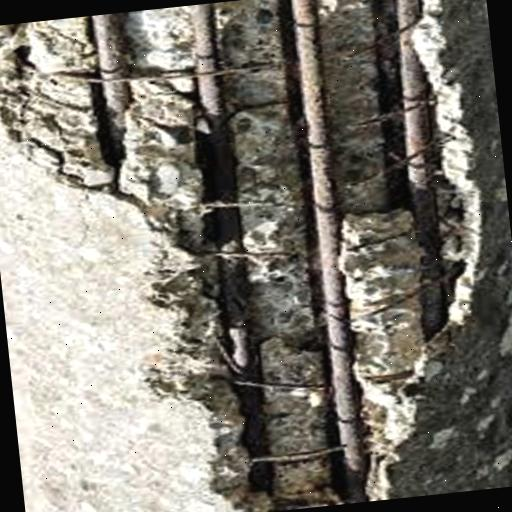spalling: (0, 0, 490, 503)
